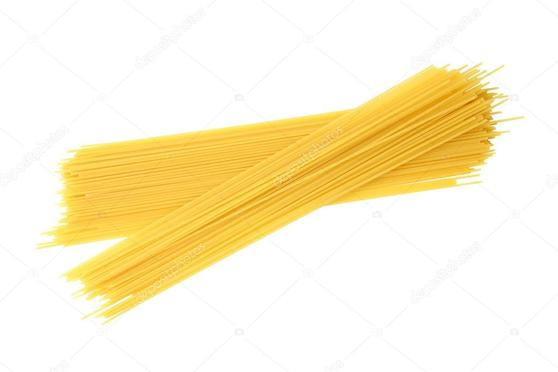spaghetti: (54, 59, 498, 312)
